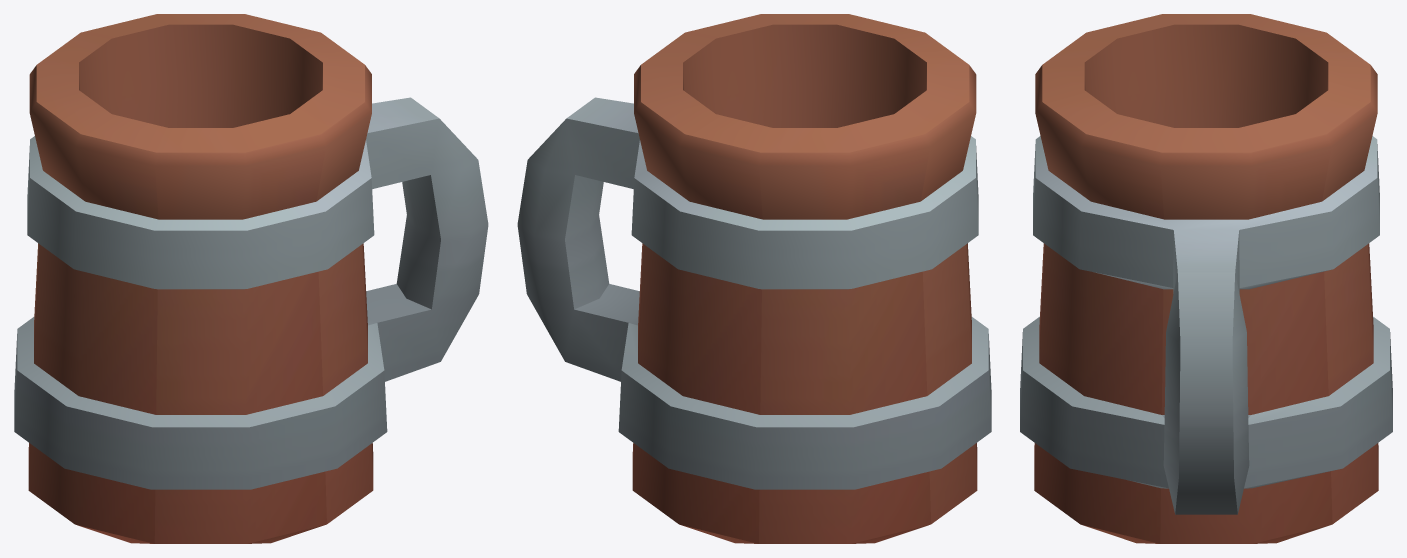
File: w_mug_empty.glb
3 views of the same model, side by side, from view 1: azimuth 30°, elevation 25°; view 2: azimuth 150°, elevation 25°; view 3: azimuth 270°, elevation 25° (orthographic).
Visible parts, largest first — view 1: mug_empty; view 2: mug_empty; view 3: mug_empty.
Boxes of the visible parts, <box> form: mug_empty: <box>14,14,488,543</box>; mug_empty: <box>517,14,991,543</box>; mug_empty: <box>1020,14,1392,543</box>.
Bounding box in the file's own units: 0.5342 × 0.4868 × 0.396.
Materials: 1 (1 with a texture image).
